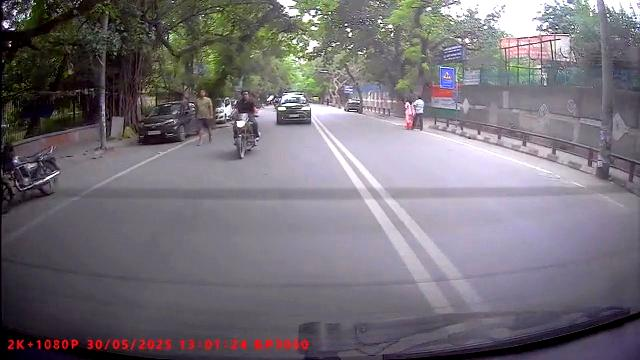motorcycle_without_helmet: (231, 87, 264, 161)
